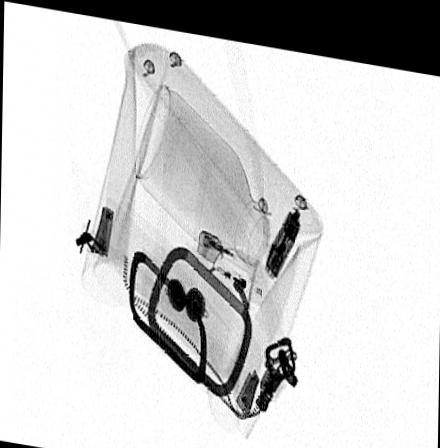Lighter: (195, 223, 262, 283)
